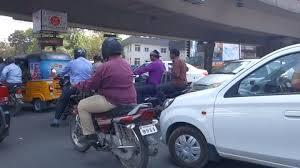helmet: (102, 36, 123, 58), (73, 47, 87, 60), (5, 54, 15, 66)
nohelmet: (169, 48, 181, 65), (148, 49, 161, 63)
